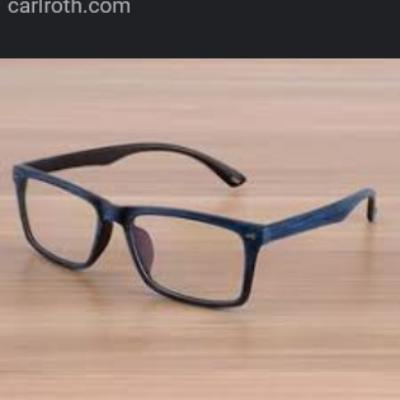glasses: (9, 138, 382, 312)
